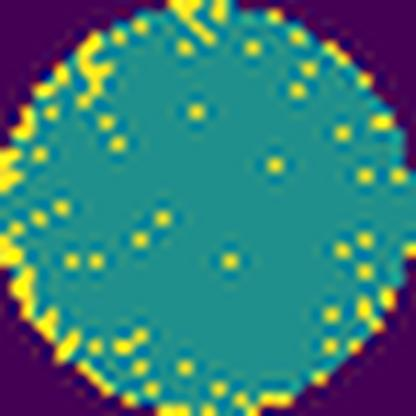Edge-Loc: (0, 231, 116, 406), (158, 0, 219, 45), (0, 147, 26, 195)
